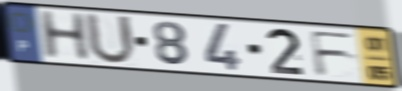2: (265, 27, 306, 77)
4: (203, 21, 247, 73)
8: (152, 20, 192, 68)
F: (307, 29, 358, 78)
H: (36, 9, 93, 61)
U: (83, 10, 139, 67)
